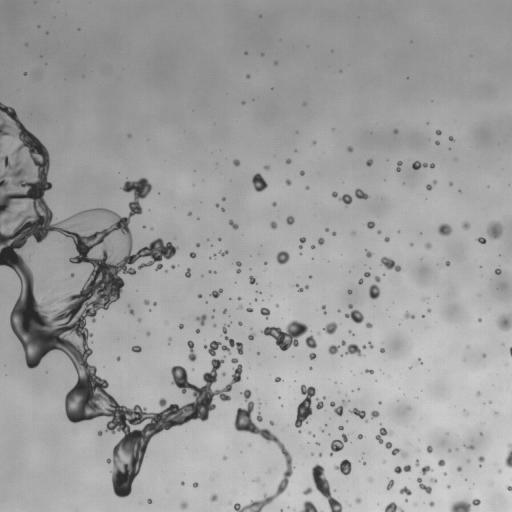droplet: (261, 320, 308, 350), (345, 304, 363, 323), (486, 221, 502, 239), (375, 426, 391, 443), (334, 459, 351, 475), (252, 173, 267, 191), (330, 400, 348, 415), (497, 313, 511, 330), (345, 344, 363, 356), (300, 501, 317, 511), (276, 251, 289, 264), (323, 322, 337, 334), (438, 223, 451, 235), (355, 188, 368, 199), (305, 335, 316, 348), (260, 307, 270, 318), (196, 314, 206, 325), (421, 465, 432, 475), (210, 289, 222, 298), (296, 284, 308, 292), (400, 487, 411, 495), (316, 398, 323, 409), (286, 216, 294, 225), (303, 487, 312, 495), (131, 345, 141, 352), (371, 410, 379, 418), (404, 312, 414, 318), (222, 325, 228, 335), (366, 221, 374, 228), (249, 276, 256, 284), (248, 332, 255, 340), (477, 237, 486, 243), (478, 456, 484, 465), (270, 221, 277, 228), (462, 222, 469, 229), (365, 250, 372, 257), (494, 267, 501, 274), (309, 353, 316, 360), (438, 459, 445, 466), (210, 494, 217, 501), (180, 501, 187, 508), (219, 250, 228, 255), (185, 268, 190, 277), (233, 159, 239, 166), (366, 159, 372, 166), (318, 237, 324, 244), (189, 252, 196, 258), (385, 442, 391, 449), (426, 445, 432, 452), (257, 413, 262, 421), (365, 322, 372, 327), (466, 445, 474, 449), (286, 179, 291, 185), (364, 272, 370, 277), (368, 342, 373, 348), (275, 377, 281, 382), (430, 478, 437, 482), (436, 130, 441, 135), (426, 243, 431, 248), (144, 300, 149, 305), (356, 498, 361, 503), (429, 501, 434, 506), (247, 308, 253, 312), (357, 434, 363, 438), (415, 460, 419, 466), (507, 485, 511, 491), (449, 136, 454, 140), (347, 147, 352, 151), (286, 159, 291, 163), (430, 163, 434, 168), (264, 165, 269, 169), (384, 237, 389, 241), (445, 261, 450, 265), (358, 279, 362, 284), (129, 309, 133, 314), (380, 348, 384, 353), (269, 421, 274, 425), (457, 466, 461, 471), (193, 482, 197, 487), (147, 498, 151, 503), (435, 140, 439, 144), (300, 171, 304, 175), (272, 202, 276, 206), (310, 245, 314, 249), (70, 273, 74, 277), (198, 294, 202, 298), (238, 305, 242, 309), (238, 321, 242, 325), (179, 324, 183, 328), (418, 359, 422, 363), (476, 391, 480, 395), (339, 426, 343, 430), (168, 338, 171, 343), (394, 129, 397, 133), (332, 232, 336, 235), (347, 290, 351, 293), (223, 309, 226, 313), (362, 345, 365, 349), (318, 453, 322, 456), (254, 478, 258, 481), (222, 197, 225, 200), (216, 203, 219, 206), (4, 219, 7, 222), (377, 230, 380, 233), (171, 265, 174, 268), (237, 297, 240, 300), (153, 302, 156, 305), (478, 318, 481, 321), (196, 329, 199, 332), (146, 332, 149, 335), (117, 357, 120, 360), (222, 372, 225, 375), (308, 431, 311, 434), (223, 456, 226, 459), (274, 62, 277, 64), (24, 72, 26, 75), (246, 75, 249, 77), (242, 101, 244, 104), (313, 141, 315, 144), (449, 183, 452, 185), (306, 186, 308, 189), (221, 208, 224, 210), (188, 212, 190, 215), (326, 228, 328, 231), (218, 238, 221, 240), (196, 244, 199, 246), (264, 262, 267, 264), (309, 275, 311, 278), (213, 324, 216, 326), (349, 331, 352, 333), (482, 354, 485, 356), (495, 411, 497, 414), (363, 462, 366, 464), (498, 470, 501, 472), (181, 482, 184, 484), (447, 486, 450, 488), (428, 309, 430, 311), (422, 315, 424, 317), (309, 367, 311, 369), (323, 397, 325, 399), (317, 443, 319, 445), (449, 449, 451, 451), (369, 478, 371, 480)
ligament: (0, 102, 243, 497), (234, 389, 294, 511), (311, 464, 341, 511), (295, 384, 316, 428), (330, 433, 347, 455), (450, 499, 480, 511), (332, 191, 352, 205), (381, 257, 401, 271), (369, 276, 380, 299), (328, 340, 345, 354), (417, 478, 431, 493), (187, 340, 196, 361), (384, 502, 404, 511), (350, 408, 365, 418), (505, 443, 511, 467), (394, 465, 411, 473), (412, 161, 427, 169), (391, 448, 406, 456), (426, 180, 436, 190), (386, 479, 394, 490), (229, 220, 238, 229), (299, 237, 305, 248), (396, 161, 402, 171), (236, 261, 241, 273), (322, 305, 326, 313), (365, 369, 373, 373), (509, 347, 511, 355)
